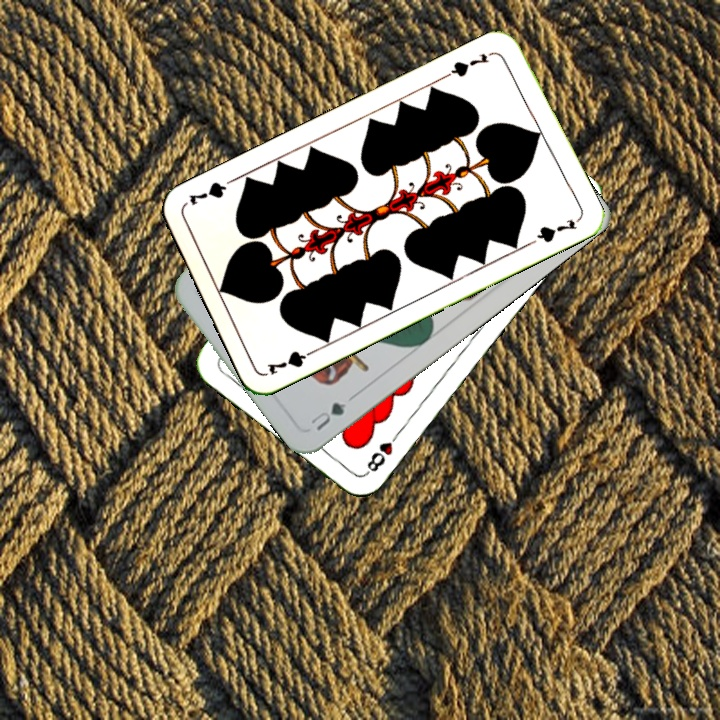G7: (263, 344, 320, 377), (442, 47, 498, 80)
GU: (305, 398, 349, 434)
H8: (361, 427, 403, 478)
